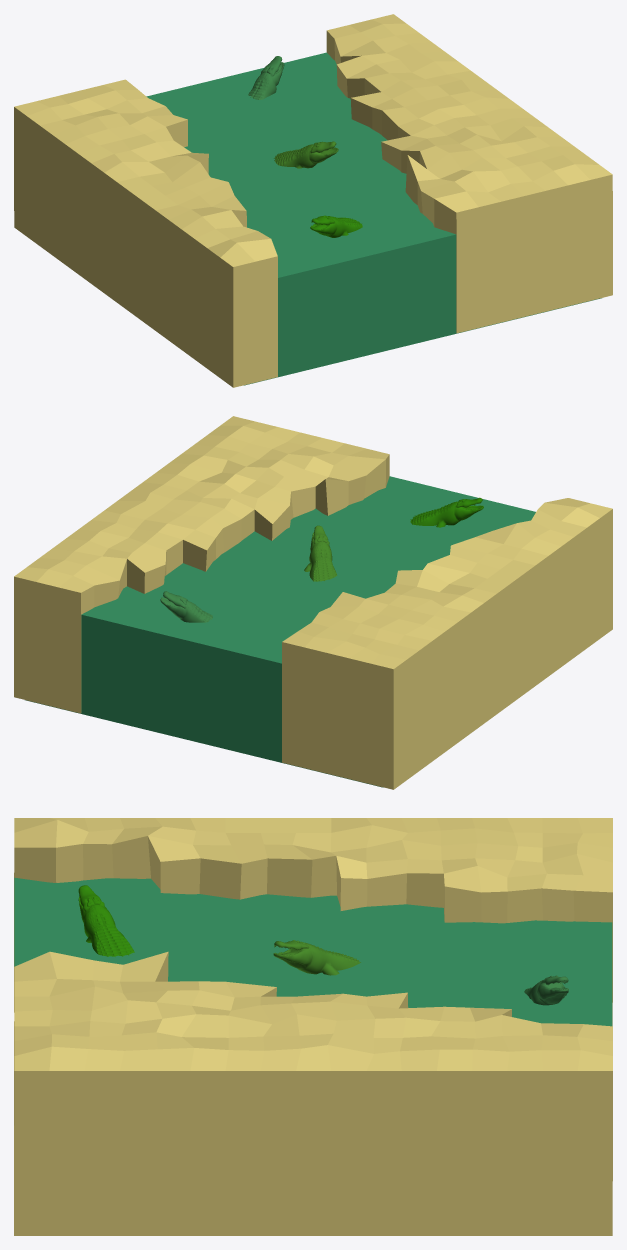
Rendered from Piece 3.glb.
3 renders of one model, top to bottom at view 1: azimuth 30°, elevation 25°; view 2: azimuth 150°, elevation 25°; view 3: azimuth 270°, elevation 25°, orthographic. The views are drawn at different scales.
Parts seen in each view (by area): view 1: Sand, Water, Gator, Gator.002, Gator.001; view 2: Sand, Water, Gator.001, Gator, Gator.002; view 3: Sand, Water, Gator.001, Gator, Gator.002.
Boxes of the visible parts, box(x1,y1,x2,y2) form: Sand: box(14, 14, 612, 387); Water: box(146, 52, 601, 385); Gator: box(274, 141, 338, 168); Gator.002: box(248, 56, 284, 99); Gator.001: box(310, 215, 362, 237); Sand: box(14, 416, 612, 789); Water: box(25, 476, 535, 787); Gator.001: box(410, 497, 483, 527); Gator: box(304, 525, 337, 581); Gator.002: box(160, 591, 212, 622); Sand: box(14, 818, 612, 1235); Water: box(14, 877, 612, 1026); Gator.001: box(78, 885, 134, 956); Gator: box(273, 940, 360, 975); Gator.002: box(524, 975, 568, 1005).
Size of what is drawn, in the model's own units: 16 by 5.54 by 16.01.
